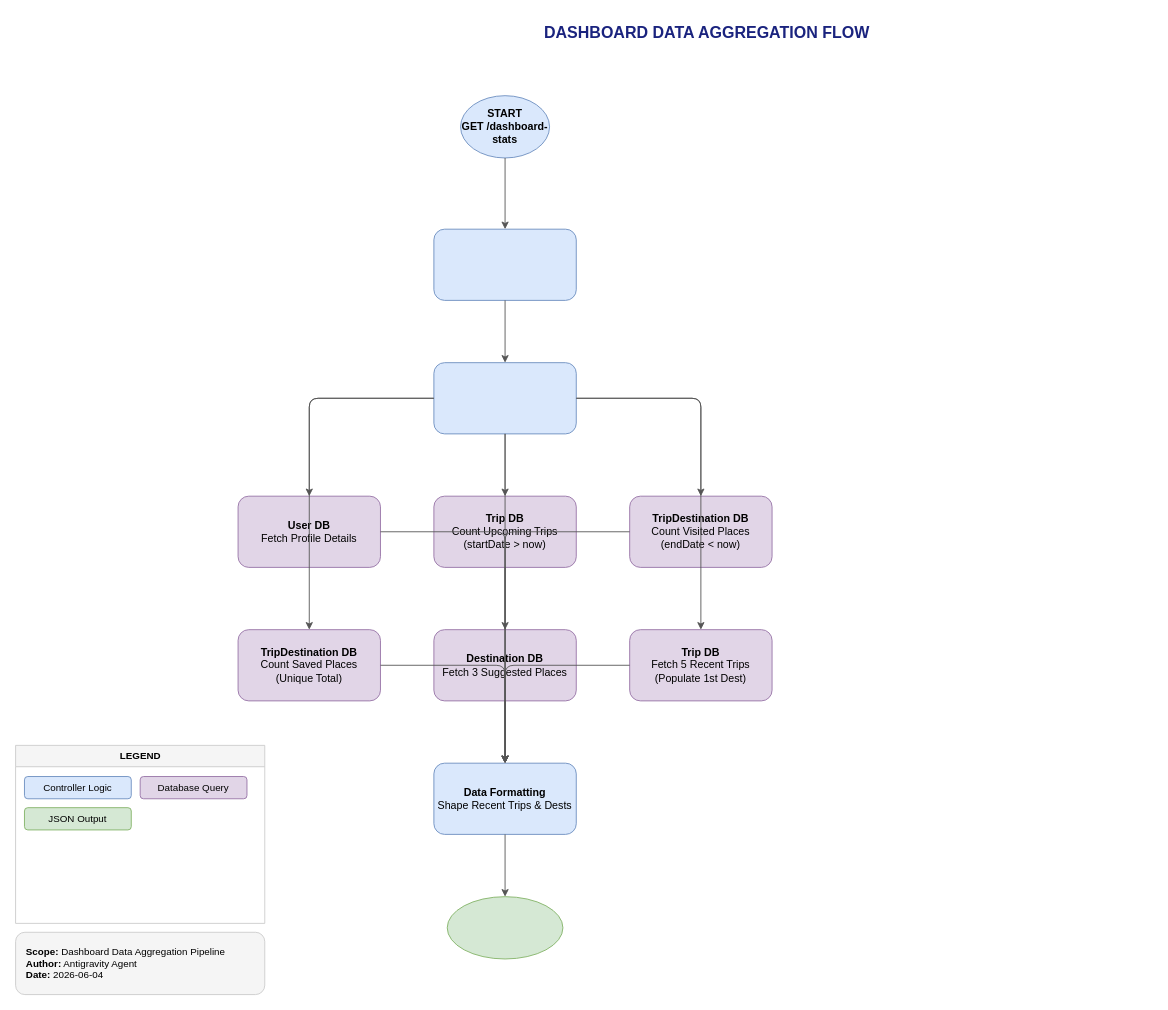
The diagram is 1168 pixels wide and 1010 high, and some of its shapes have lost their labels. Here are the shapes that lost their labels. From the top down, the centre of each, then its label:
At point 504,264: "Auth Middleware Extract req.user._id".
At point 504,398: "Promise.all() Execute DB Queries in Parallel".
At point 504,927: "END / OUTPUT Return Dashboard JSON".
